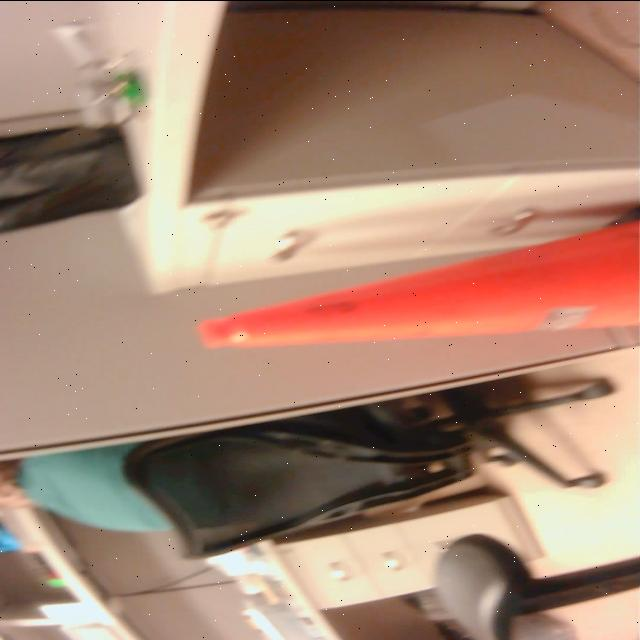traffic cone: (188, 191, 640, 354)
